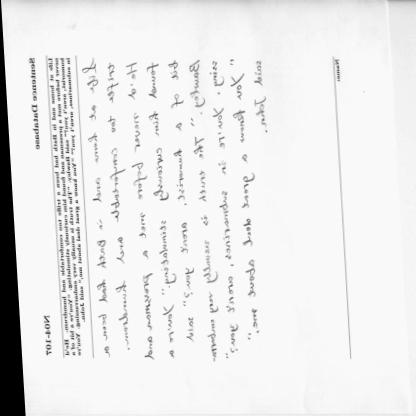Handwritten text: (120, 52, 155, 366), (140, 48, 175, 362), (182, 51, 217, 363), (77, 55, 112, 362), (162, 50, 194, 348), (97, 52, 128, 351), (205, 55, 236, 350), (226, 72, 259, 334), (247, 55, 269, 133)
